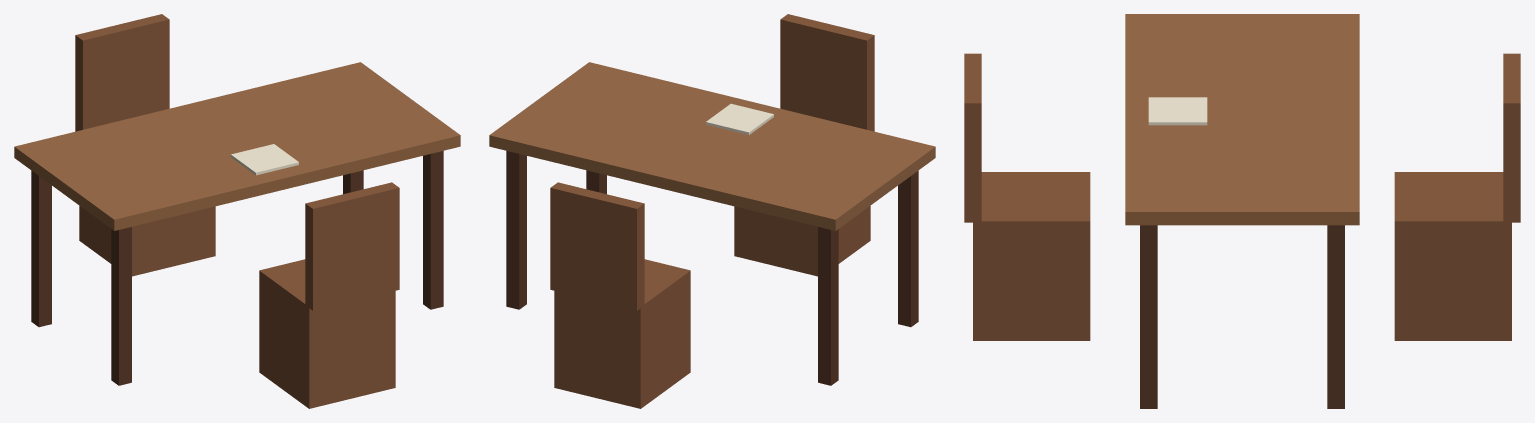
The model's file is nguyens_picnic.glb.
3 renders of one model, left to right at view 1: azimuth 30°, elevation 25°; view 2: azimuth 150°, elevation 25°; view 3: azimuth 270°, elevation 25°, orthographic. The views are drawn at different scales.
Visible parts, largest first — view 1: Box1, Box6, Box7, Box9, Box8, Box3, Box5, Box2, Box10, Box4; view 2: Box1, Box8, Box9, Box7, Box6, Box2, Box4, Box3, Box10, Box5; view 3: Box1, Box6, Box8, Box4, Box5, Box7, Box9, Box10.
Part boxes in pixels (left/top/right/bottom): Box1: left=14, top=62, right=460, bottom=230; Box6: left=259, top=259, right=395, bottom=408; Box7: left=305, top=182, right=399, bottom=310; Box9: left=75, top=14, right=169, bottom=131; Box8: left=79, top=206, right=215, bottom=276; Box3: left=111, top=227, right=131, bottom=385; Box5: left=423, top=151, right=443, bottom=309; Box2: left=31, top=170, right=51, bottom=327; Box10: left=231, top=144, right=298, bottom=175; Box4: left=343, top=170, right=363, bottom=194; Box1: left=489, top=62, right=935, bottom=230; Box8: left=554, top=259, right=690, bottom=408; Box9: left=550, top=182, right=644, bottom=310; Box7: left=780, top=14, right=874, bottom=131; Box6: left=734, top=206, right=870, bottom=276; Box2: left=818, top=227, right=838, bottom=385; Box4: left=506, top=151, right=526, bottom=309; Box3: left=898, top=170, right=918, bottom=327; Box10: left=706, top=103, right=773, bottom=134; Box5: left=586, top=170, right=606, bottom=194; Box1: left=1125, top=14, right=1359, bottom=225; Box6: left=973, top=172, right=1090, bottom=340; Box8: left=1394, top=172, right=1511, bottom=340; Box4: left=1327, top=225, right=1344, bottom=408; Box5: left=1140, top=225, right=1157, bottom=408; Box7: left=964, top=53, right=981, bottom=222; Box9: left=1503, top=53, right=1520, bottom=222; Box10: left=1148, top=97, right=1207, bottom=125.
Size of the model in its own units: 1.6 by 0.895 by 1.9.
